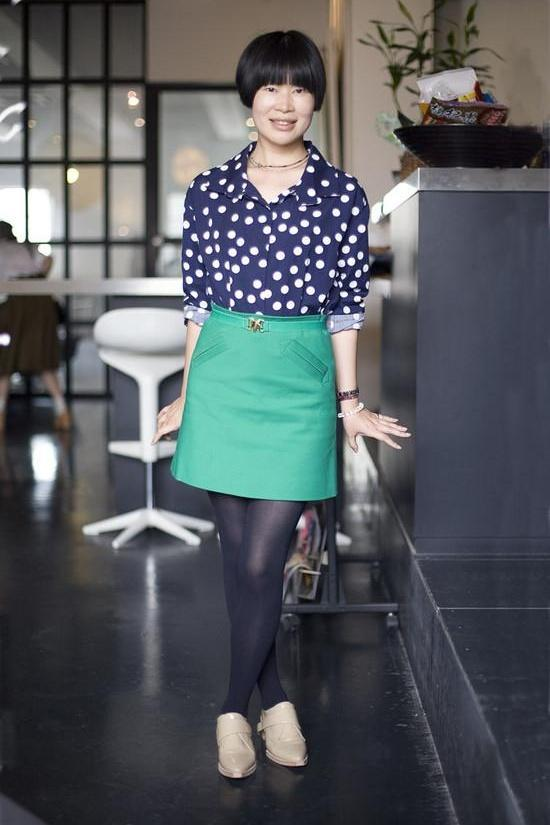shirt: (180, 139, 372, 335)
skirt: (172, 300, 339, 502)
